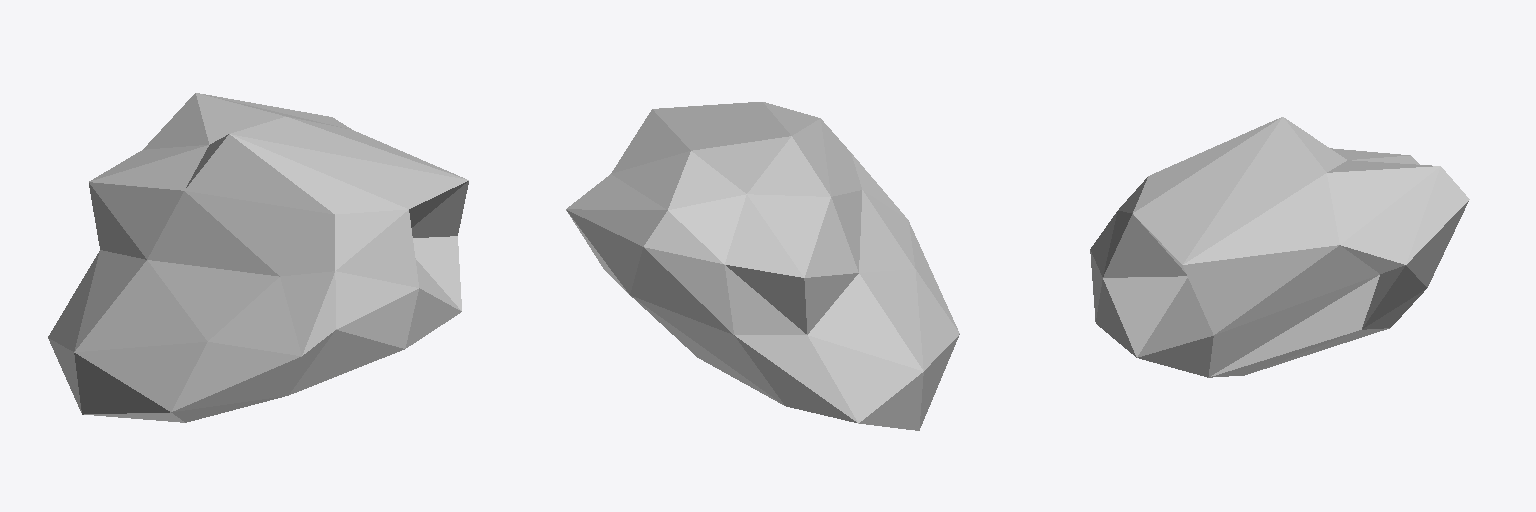
Rendered from prop_v2_3.obj.
3 views of the same model, side by side, from view 1: azimuth 30°, elevation 25°; view 2: azimuth 150°, elevation 25°; view 3: azimuth 270°, elevation 25° (orthographic).
Visible parts, largest first — view 1: prop_v2_3_Icosphere.002; view 2: prop_v2_3_Icosphere.002; view 3: prop_v2_3_Icosphere.002.
Part boxes in pixels (x1,y1,x2,y2): prop_v2_3_Icosphere.002: (48, 93, 468, 422); prop_v2_3_Icosphere.002: (566, 102, 959, 430); prop_v2_3_Icosphere.002: (1090, 117, 1469, 377).
Bounding box in the file's own units: 0.0923 × 0.0664 × 0.0899.